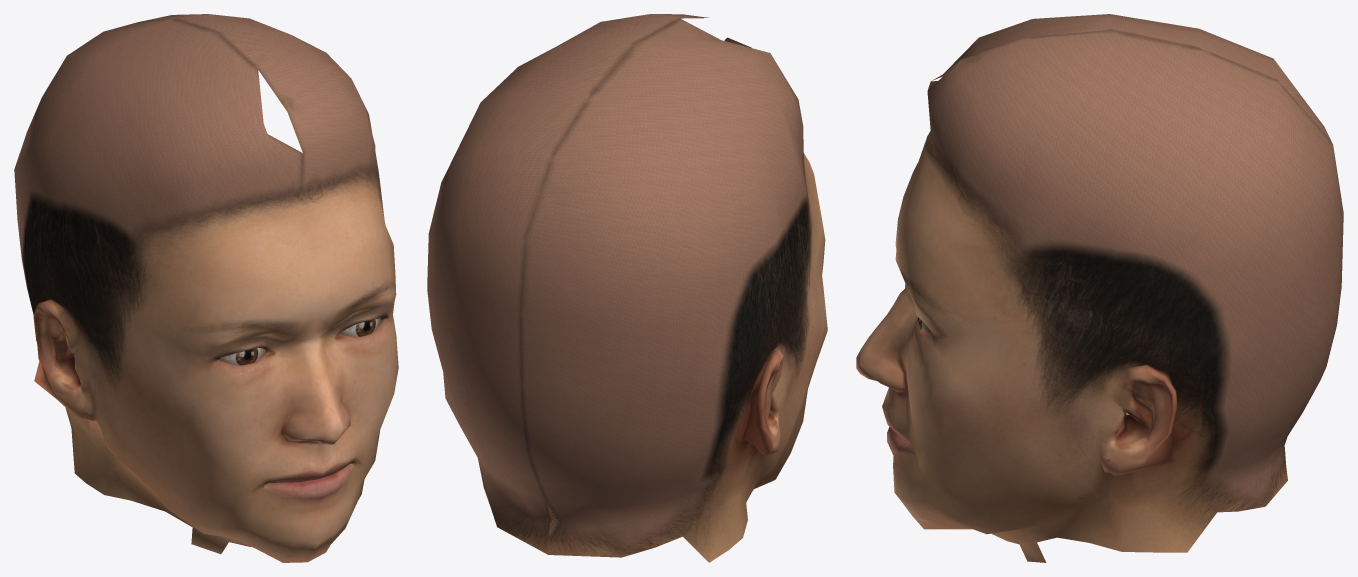
The model's file is huiming.glb.
3 renders of one model, left to right at view 1: azimuth 30°, elevation 25°; view 2: azimuth 150°, elevation 25°; view 3: azimuth 270°, elevation 25°, orthographic. The views are drawn at different scales.
Parts seen in each view (by area): view 1: face; view 2: face; view 3: face.
Boxes of the visible parts, x1,y1,x2,y2 form: face: [14, 14, 398, 562]; face: [427, 14, 827, 562]; face: [856, 14, 1343, 562].
Bounding box in the file's own units: 0.1726 × 0.2575 × 0.2215.
Materials: 1 (1 with a texture image).
